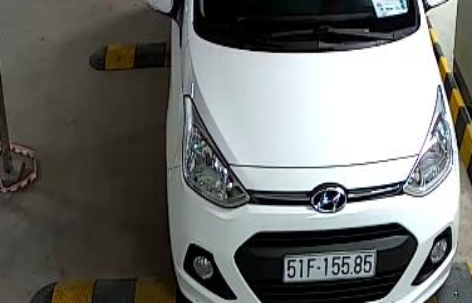plate: (275, 246, 385, 285)
